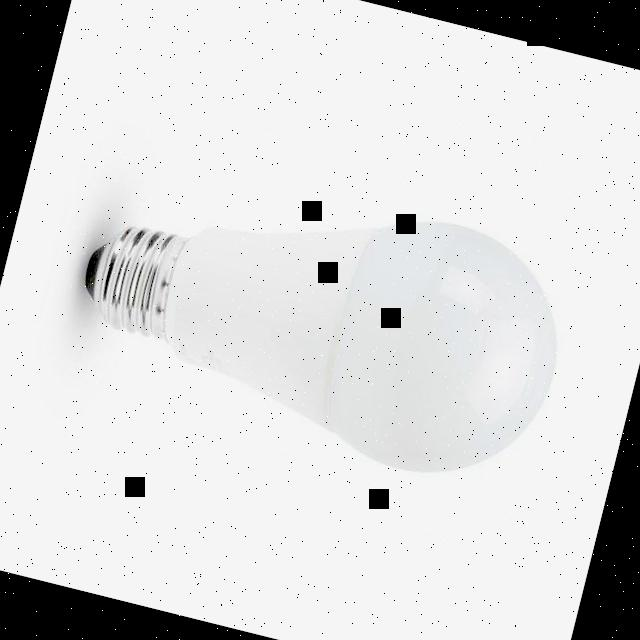light_bulb: (63, 138, 588, 500)
